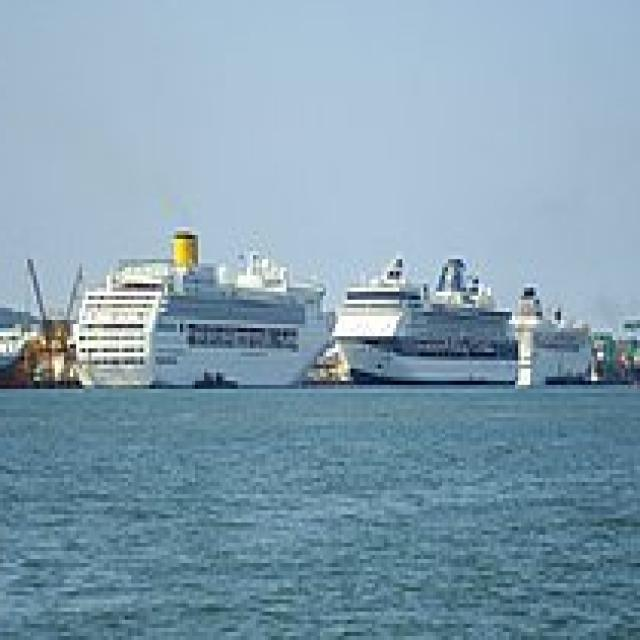Cruise: (80, 227, 342, 389), (332, 251, 524, 385), (497, 275, 600, 385)
